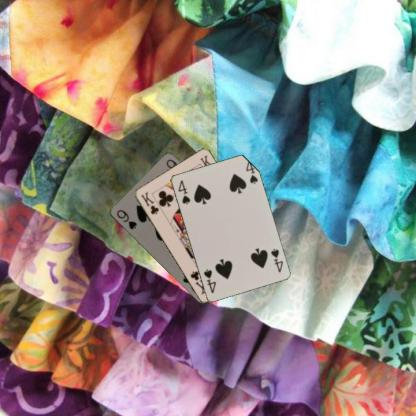4s: (175, 177, 191, 206), (268, 246, 284, 274)
9s: (114, 207, 137, 230)
Kc: (138, 189, 160, 215)
